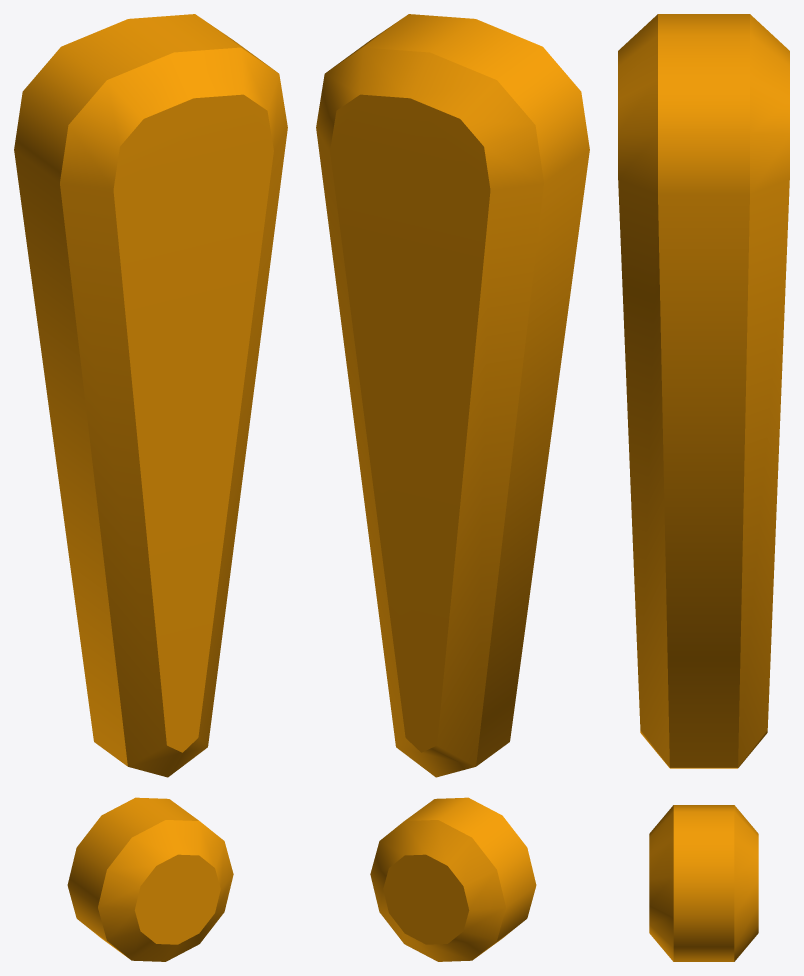
The model's file is Exclamation_TypeA.FBX.
3 renders of one model, left to right at view 1: azimuth 30°, elevation 25°; view 2: azimuth 150°, elevation 25°; view 3: azimuth 270°, elevation 25°, orthographic.
Parts seen in each view (by area): view 1: Exclamation_TypeA; view 2: Exclamation_TypeA; view 3: Exclamation_TypeA.
Part boxes in pixels (left/top/right/bottom): Exclamation_TypeA: left=14, top=14, right=287, bottom=961; Exclamation_TypeA: left=316, top=14, right=589, bottom=961; Exclamation_TypeA: left=618, top=14, right=789, bottom=961.
Size of the model in its own units: 7.19 by 27.55 by 4.66.
